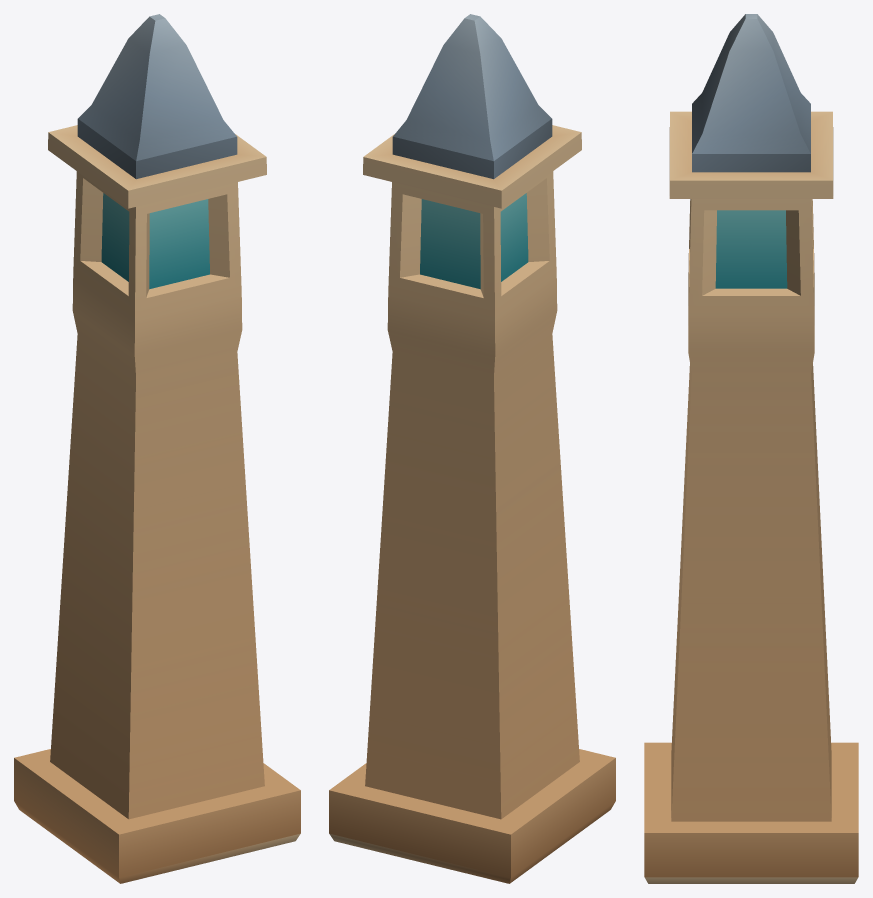
The model's file is LightTower01.fbx.
The picture shows the model from 3 angles, left to right: view 1: azimuth 30°, elevation 25°; view 2: azimuth 150°, elevation 25°; view 3: azimuth 270°, elevation 25°; orthographic projection.
Visible parts, largest first — view 1: LightTower01; view 2: LightTower01; view 3: LightTower01.
Part boxes in pixels (x1,y1,x2,y2): LightTower01: (14, 14, 300, 883); LightTower01: (329, 14, 615, 883); LightTower01: (644, 14, 858, 883).
Size of the model in its own units: 0.5287 by 2.25 by 0.5287.
1 material, 1 textured.
